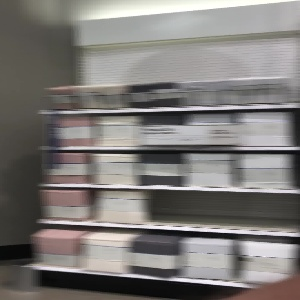void: (146, 192, 300, 229)
